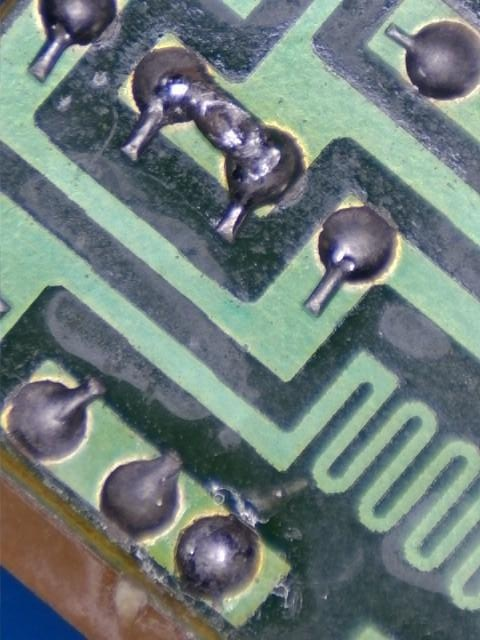pcb_defect: (159, 74, 282, 186)
